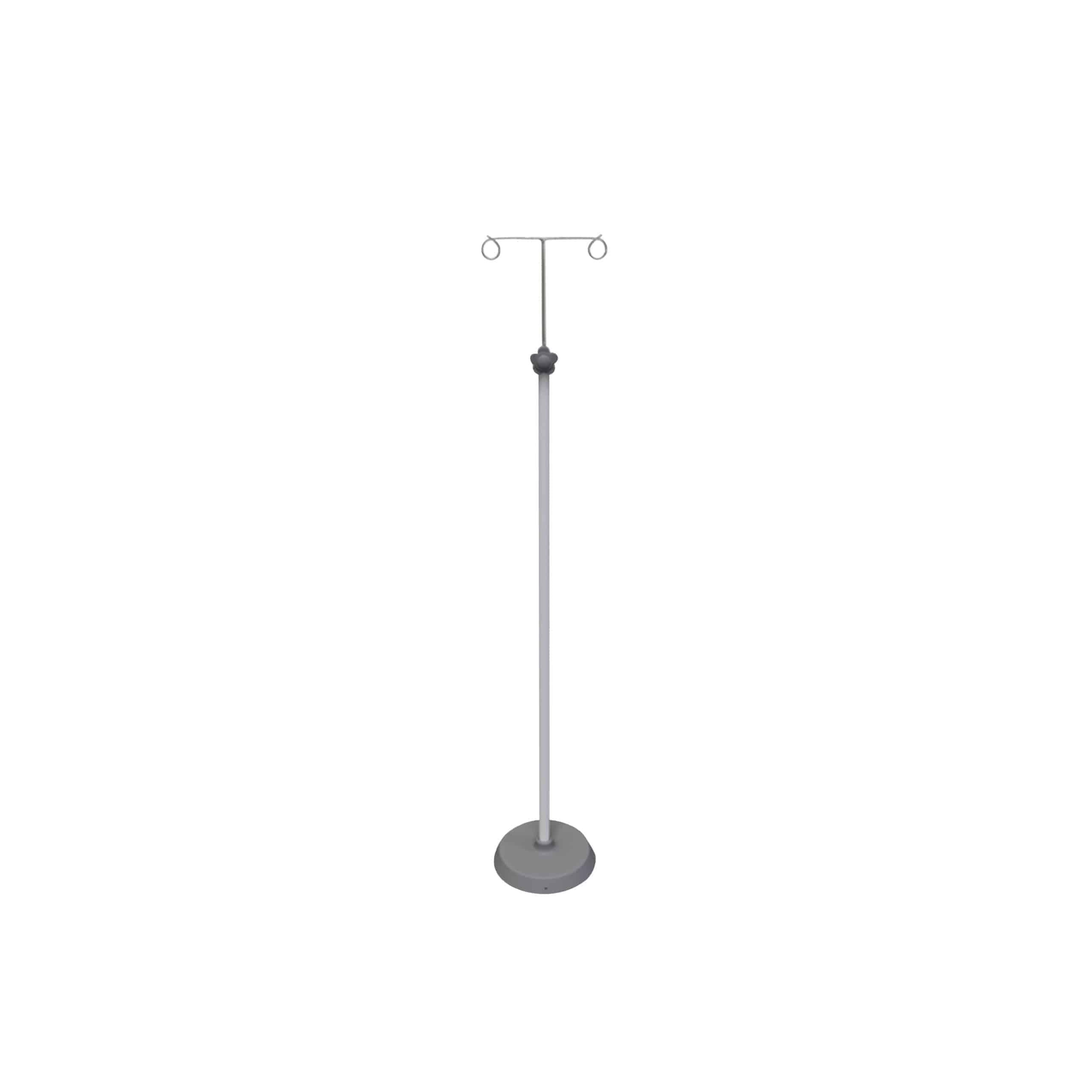Saline Stand: (479, 231, 608, 894)
